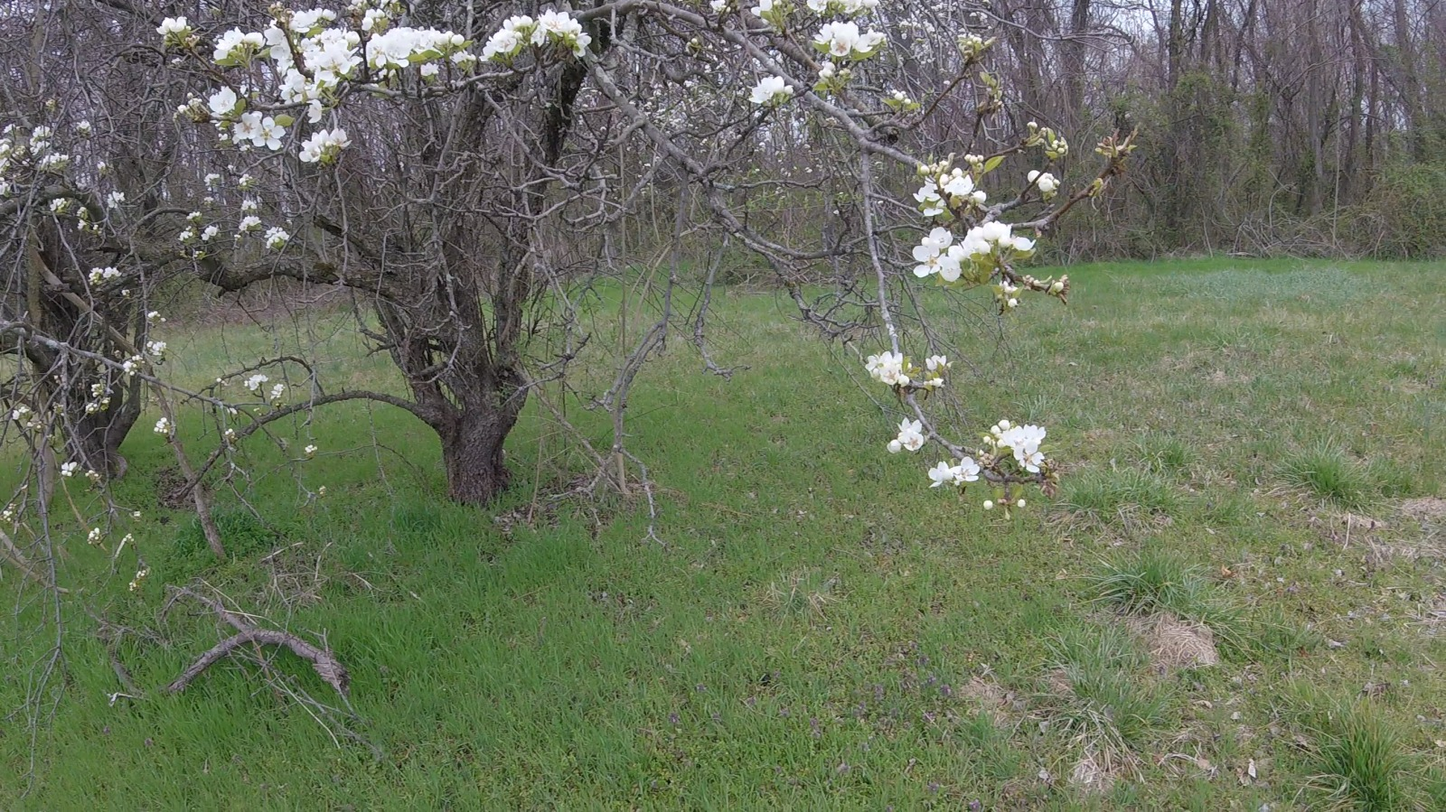flower: (264, 18, 366, 124), (913, 221, 1037, 282), (366, 26, 465, 69), (531, 7, 592, 60), (991, 420, 1047, 474), (812, 22, 888, 57), (480, 15, 533, 62), (210, 27, 267, 66), (232, 112, 286, 151), (940, 168, 987, 208), (299, 128, 352, 163), (866, 350, 910, 387), (929, 457, 981, 488), (747, 75, 796, 105), (887, 417, 924, 454), (287, 8, 337, 33), (807, 0, 881, 16), (205, 87, 237, 117), (914, 176, 941, 203), (104, 254, 130, 280), (156, 17, 192, 35), (361, 9, 386, 31), (265, 227, 290, 249), (1037, 173, 1061, 192), (108, 191, 126, 216), (924, 198, 947, 217), (245, 375, 269, 391), (450, 50, 476, 64), (239, 216, 262, 231), (819, 60, 836, 80), (926, 356, 946, 373), (752, 0, 773, 16), (241, 191, 258, 210), (202, 225, 220, 241), (89, 267, 104, 284), (421, 63, 440, 76), (151, 341, 167, 356), (924, 378, 944, 390), (155, 418, 170, 434), (710, 0, 727, 14), (271, 384, 286, 399), (62, 462, 78, 476), (13, 407, 30, 420), (204, 174, 221, 186), (178, 232, 193, 241), (1028, 171, 1040, 182), (1007, 296, 1019, 307), (124, 361, 136, 372), (984, 501, 993, 510), (1019, 499, 1026, 508), (958, 238, 962, 241)
